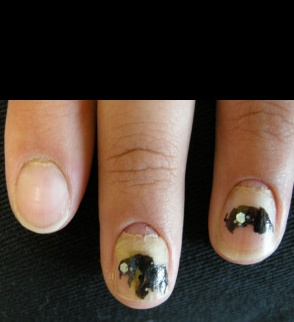SJS-TEN: (193, 168, 294, 270), (92, 211, 187, 312)
